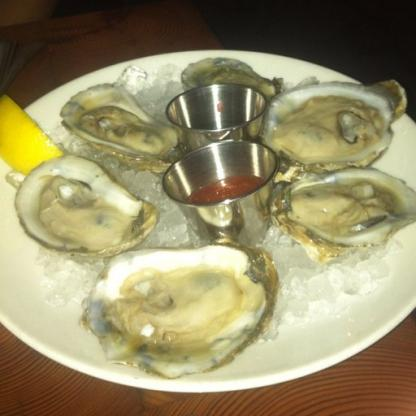oyster: (90, 250, 280, 382), (21, 155, 154, 254), (284, 165, 416, 254), (262, 81, 400, 162), (64, 83, 180, 165)
